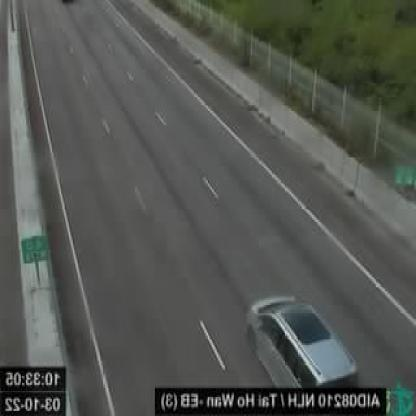Car: (247, 294, 357, 385)
